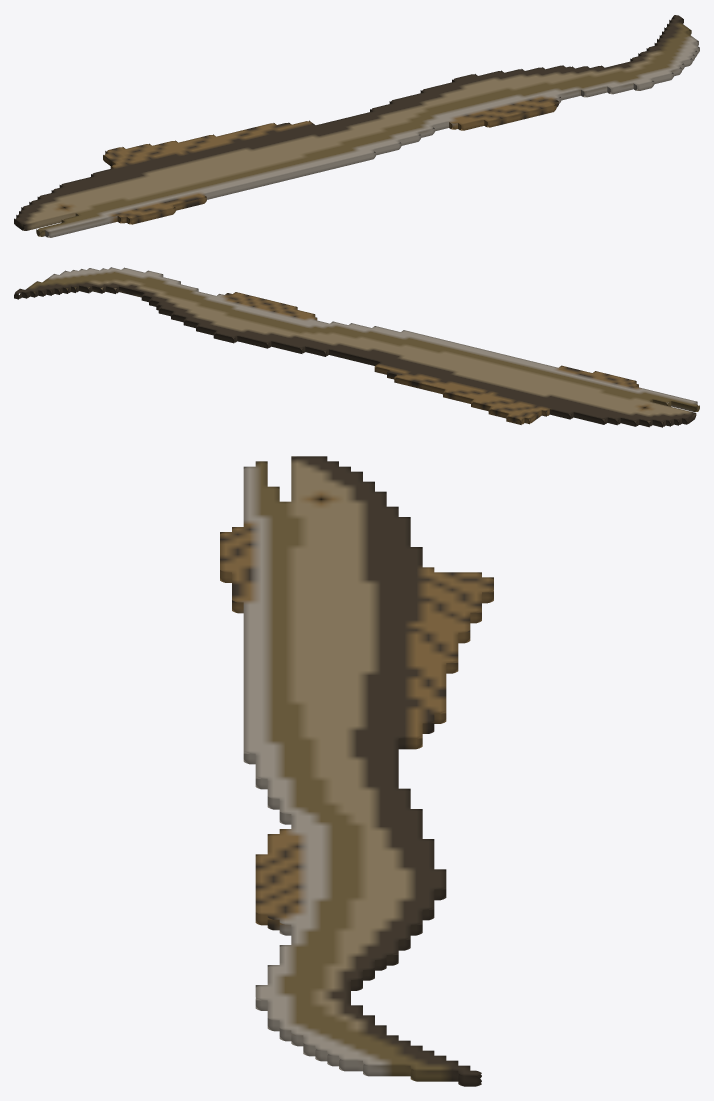
The model's file is Eel_model (2).fbx.
The picture shows the model from 3 angles, top to bottom: view 1: azimuth 30°, elevation 25°; view 2: azimuth 150°, elevation 25°; view 3: azimuth 270°, elevation 25°; orthographic projection. The views are drawn at different scales.
Parts seen in each view (by area): view 1: Eel_0; view 2: Eel_0; view 3: Eel_0.
Part boxes in pixels (left/top/right/bottom): Eel_0: left=14, top=15, right=699, bottom=237; Eel_0: left=14, top=267, right=699, bottom=427; Eel_0: left=220, top=456, right=493, bottom=1086.
Size of the model in its own units: 96.09 by 0.7812 by 17.97.
1 material, 1 textured.
